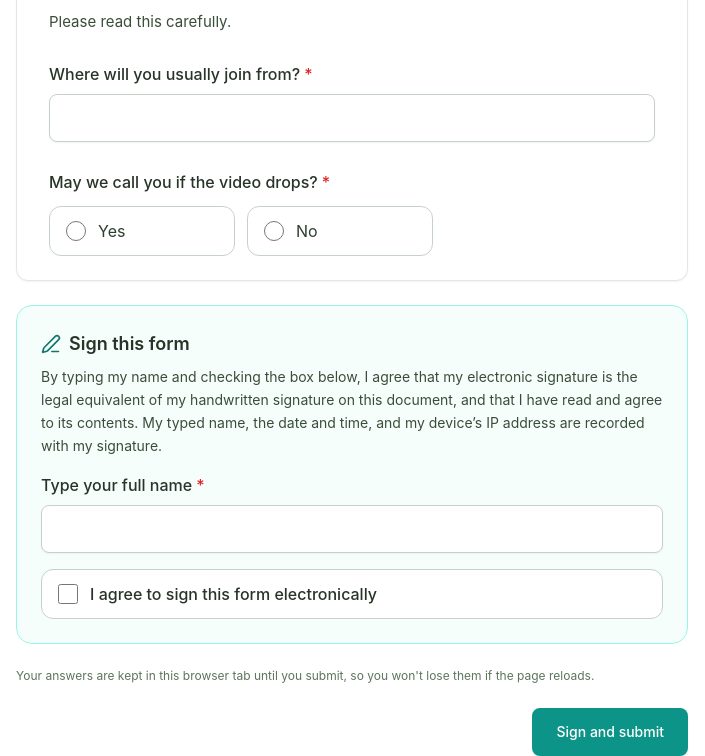
Test: ClientFormPage › checks required answers and the signature before submitting
The image size is (705, 756).
(page scrolled)
Click the button "Sign and submit" at (610, 732), box [532,708,688,755]
(page scrolled)
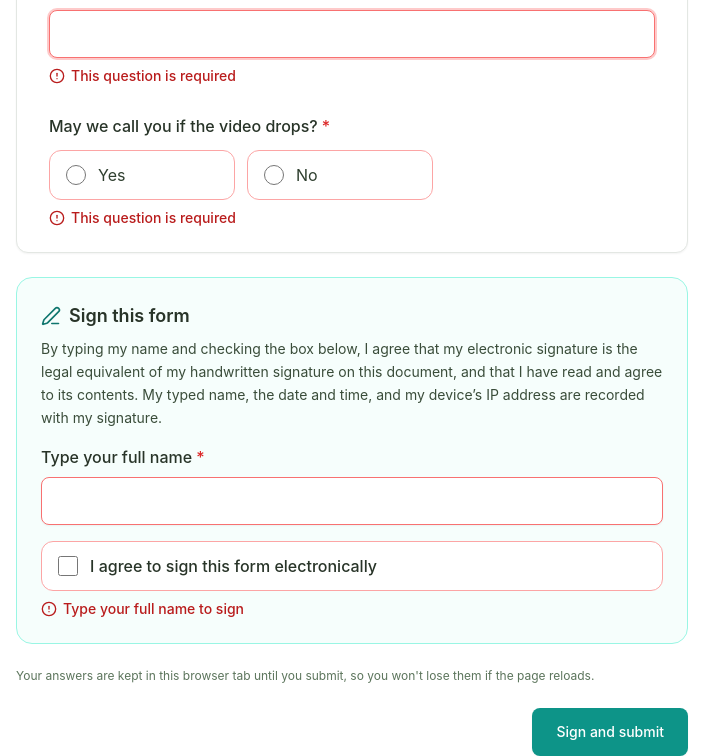
Expected: the text "Type your full name to sign" is shown, [41,600,244,617]
